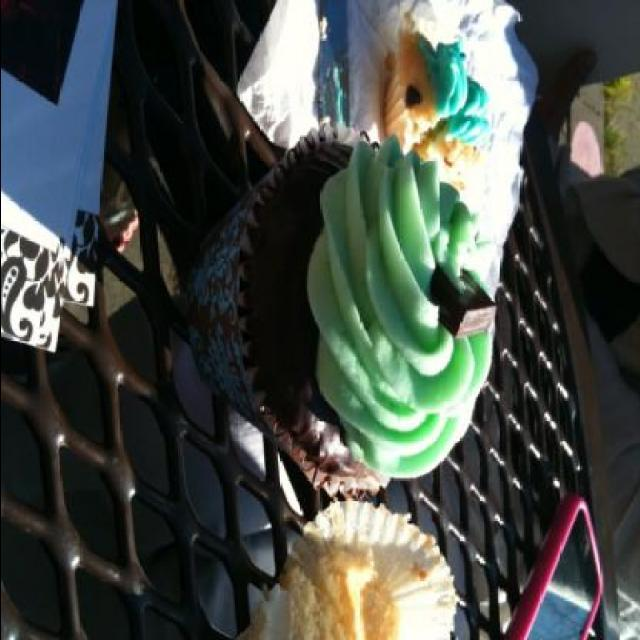Muffin: (182, 120, 498, 503), (386, 30, 500, 190), (257, 541, 406, 639)
